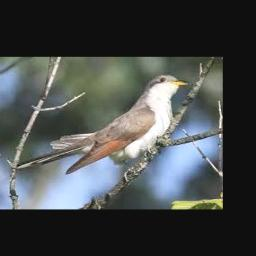Cuckoo: (15, 75, 190, 172)
